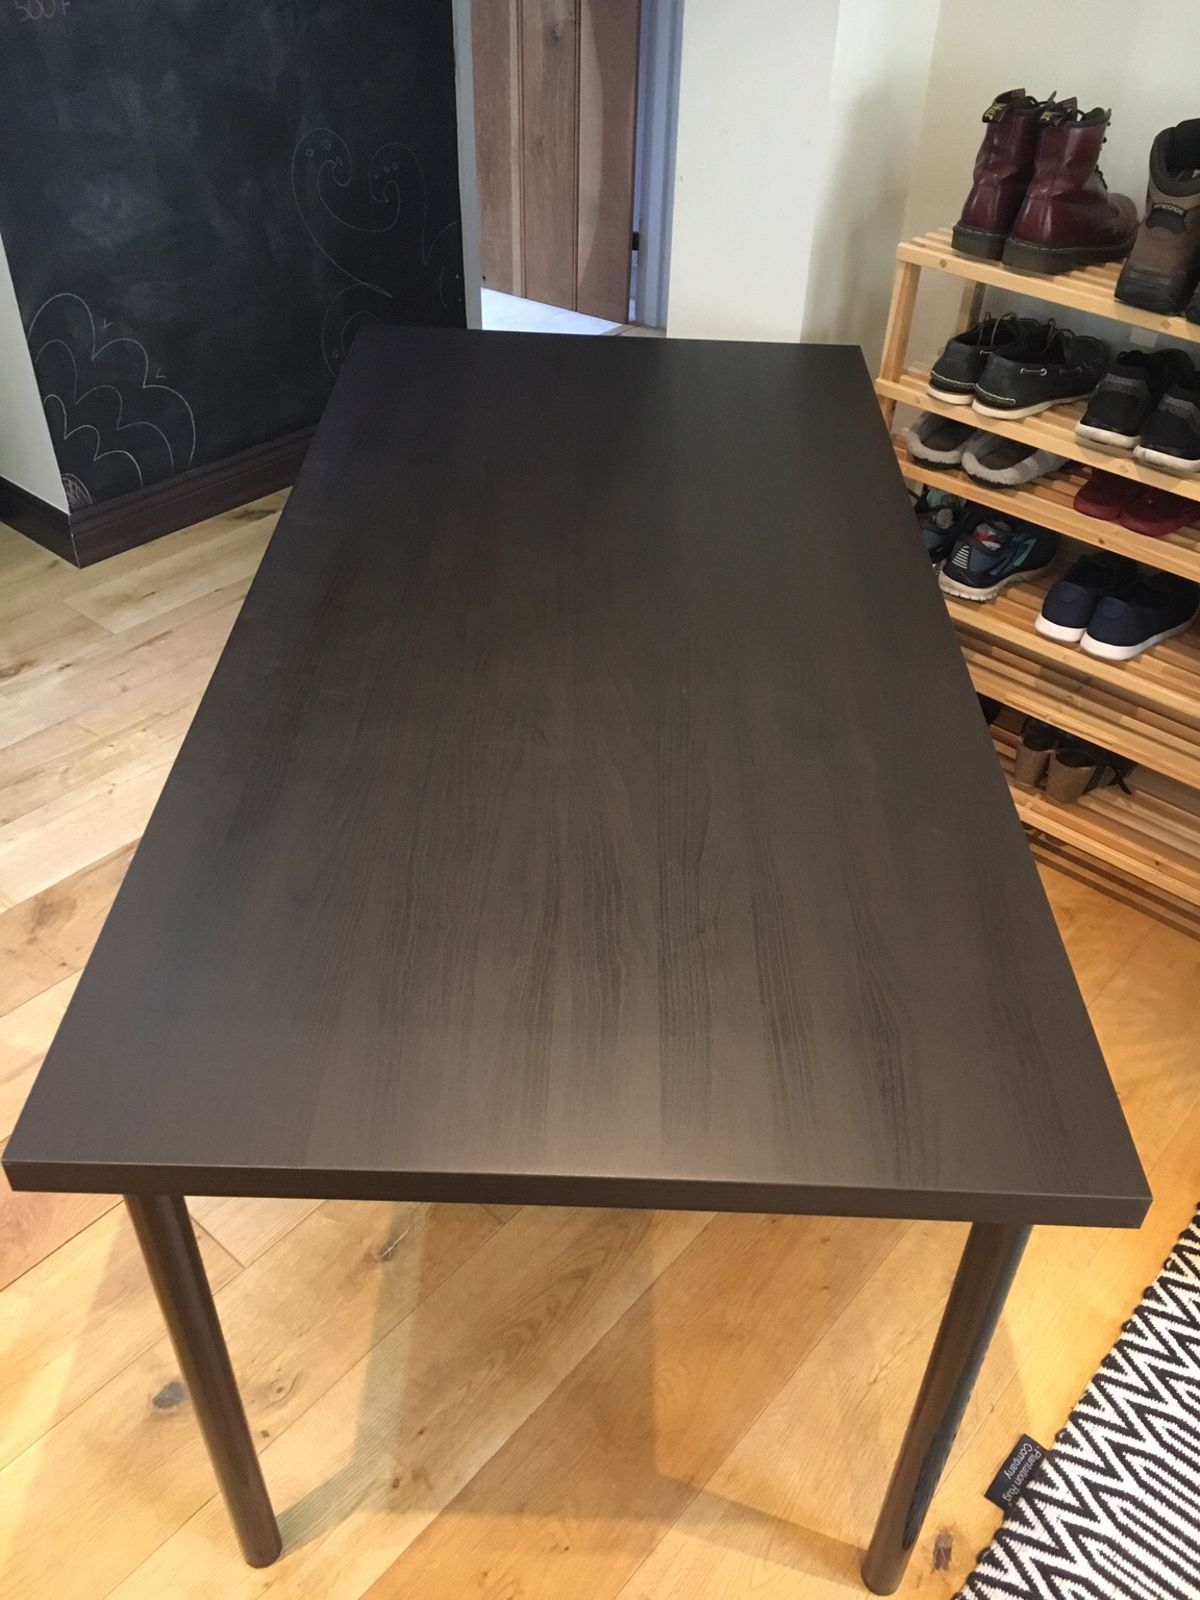cabinet: (862, 91, 1200, 971)
table: (11, 291, 1176, 1595)
